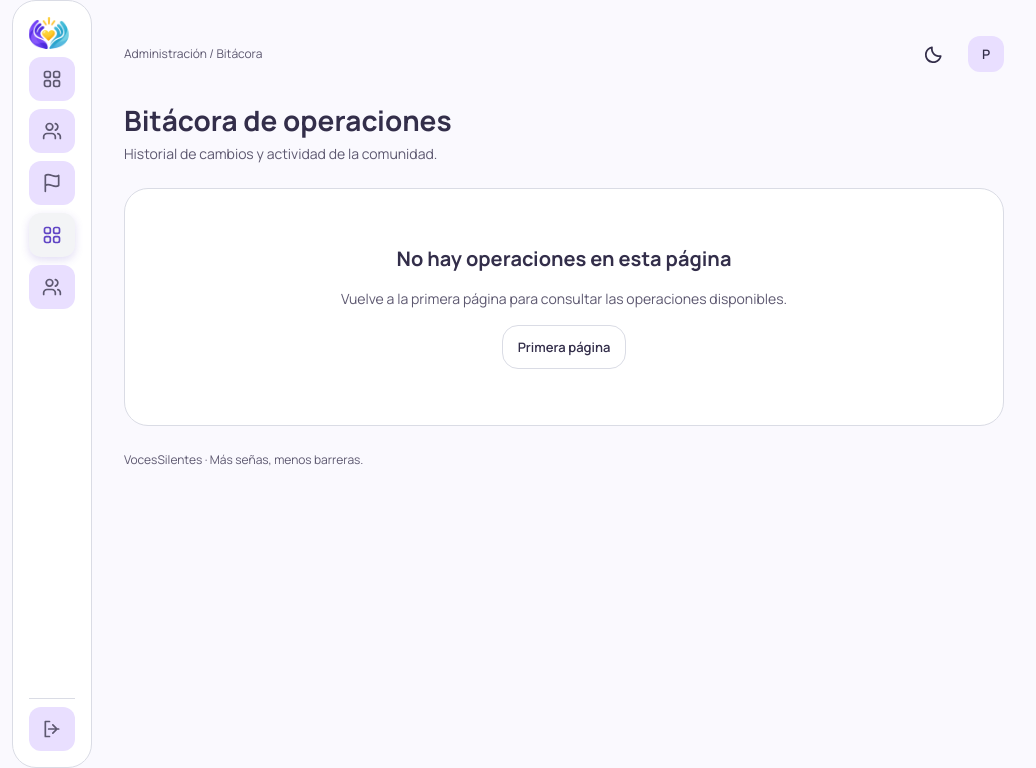
Test: audit: distingue página fuera de rango y recupera primera página
Expected: the button "Siguiente" is not shown
What coordinates should you click on to do the following:
click the button "Primera página"
I would click on:
 (564, 347)
Its box is [502,325,626,369].
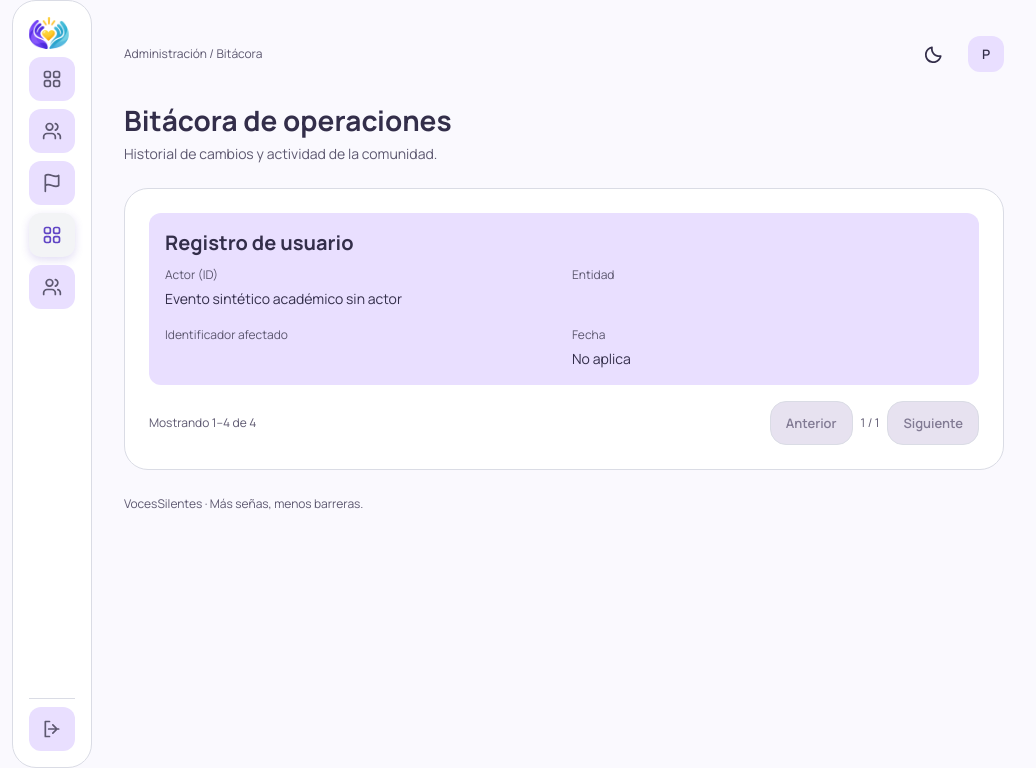
Expected: the heading "Registro de usuario" is shown, [165,229,354,256]
